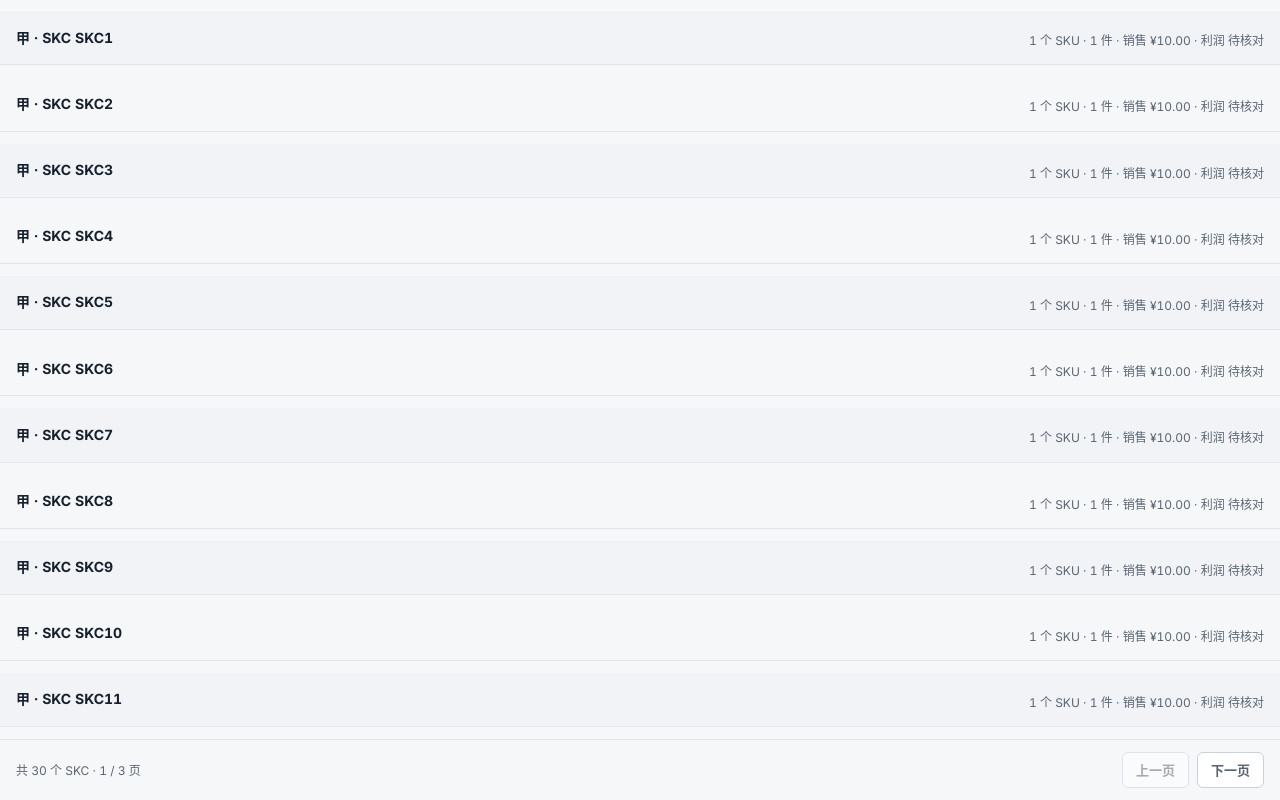
Test case: mounts only opened variants and reveals the page list after paging
(page scrolled)
Click the button "下一页" at point(1230, 770), box [1197,752,1264,788]
(page scrolled)
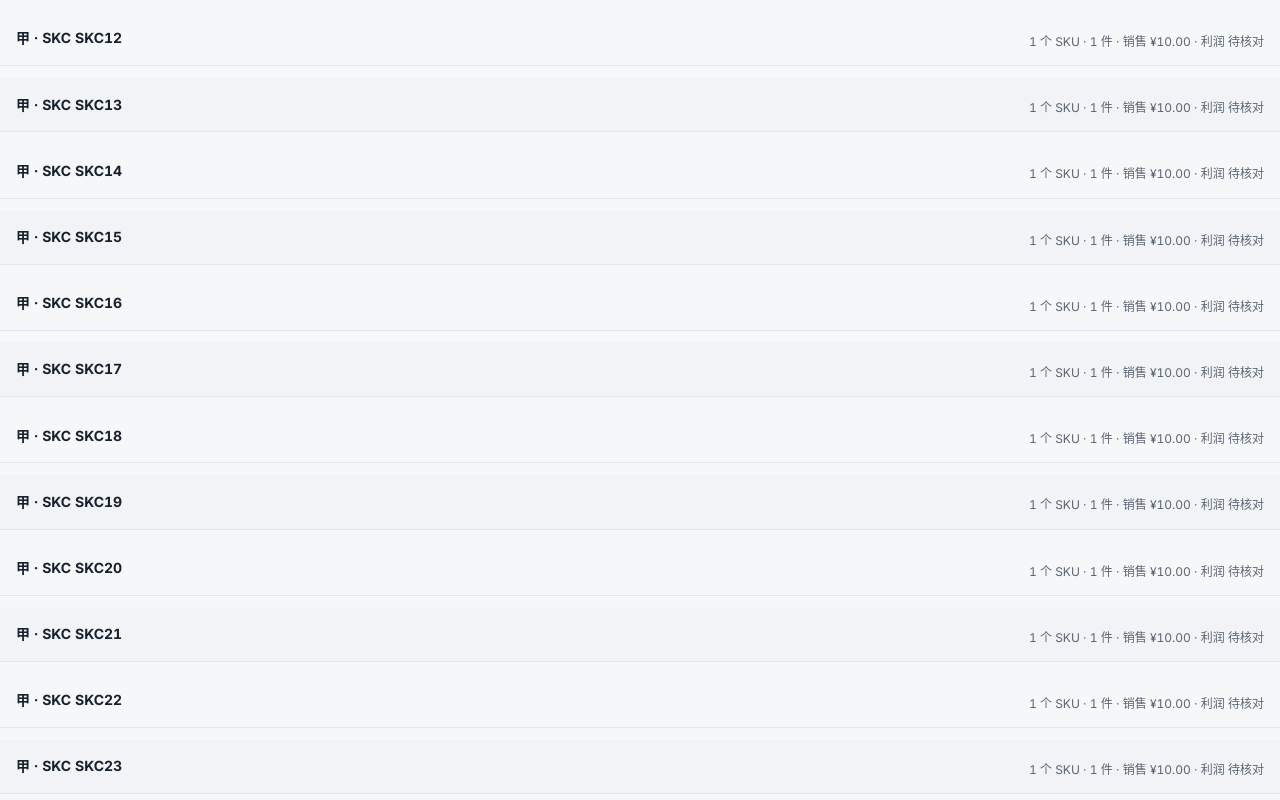
Expected: the heading "甲 · SKC SKC12 1 个 SKU · 1 件 · 销售 ¥10.00 · 利润 待核对" is shown, [16,29,1264,49]
